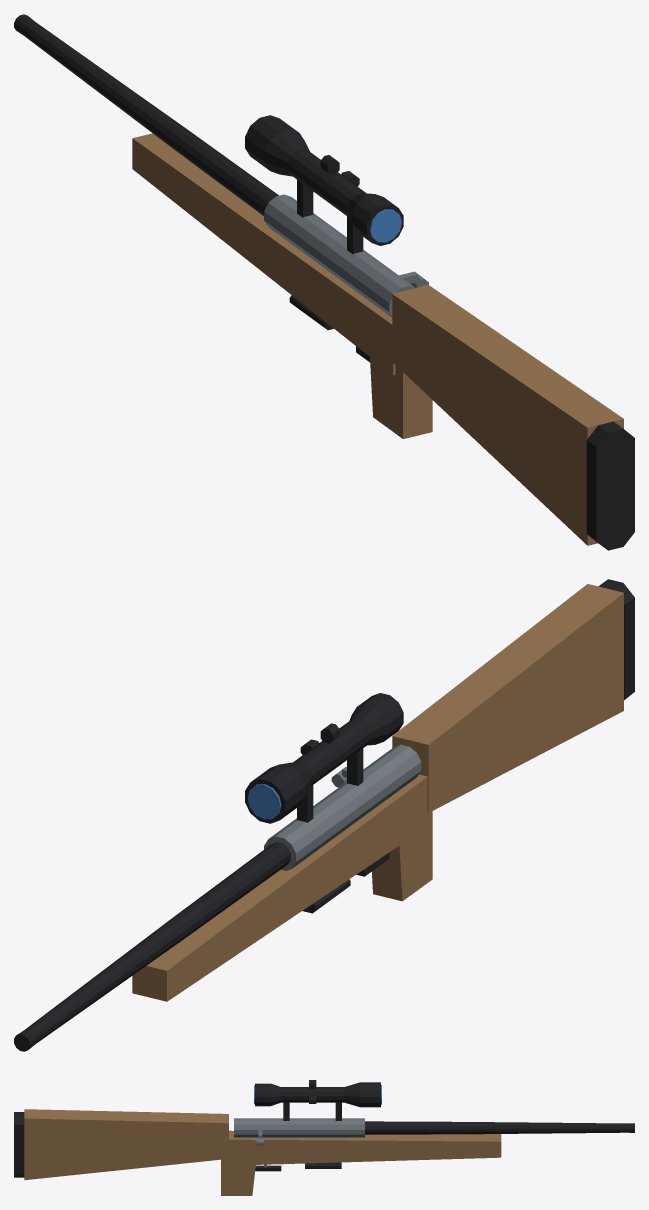
File: rifle.glb
3 views of the same model, one above another, from view 1: azimuth 30°, elevation 25°; view 2: azimuth 150°, elevation 25°; view 3: azimuth 270°, elevation 25° (orthographic). The views are drawn at different scales.
Visible parts, largest first — view 1: rifle; view 2: rifle; view 3: rifle.
Boxes of the visible parts, box(x1,y1,x2,y2) form: rifle: box(14, 14, 634, 550); rifle: box(14, 579, 634, 1051); rifle: box(14, 1080, 634, 1195).
Size of the model in its own units: 0.0752 by 0.235 by 1.19.
1 material, 1 textured.
